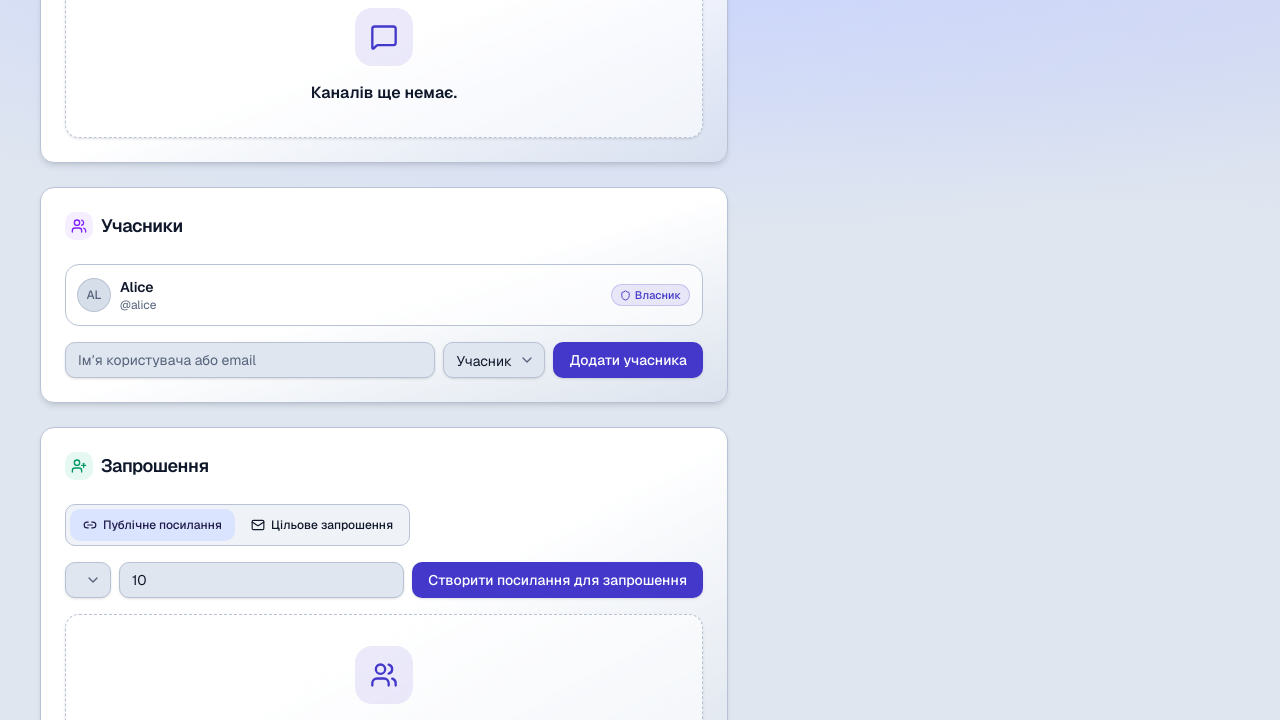
Test: WorkspaceDetailPage — locale › shows Ukrainian invitation sent message
The width and height of the screenshot is (1280, 720).
(page scrolled)
Type "bob@example.com" into the field with placeholder "Імʼя користувача або email".
click(250, 360); type("bob@example.com")  # box [65, 342, 435, 378]
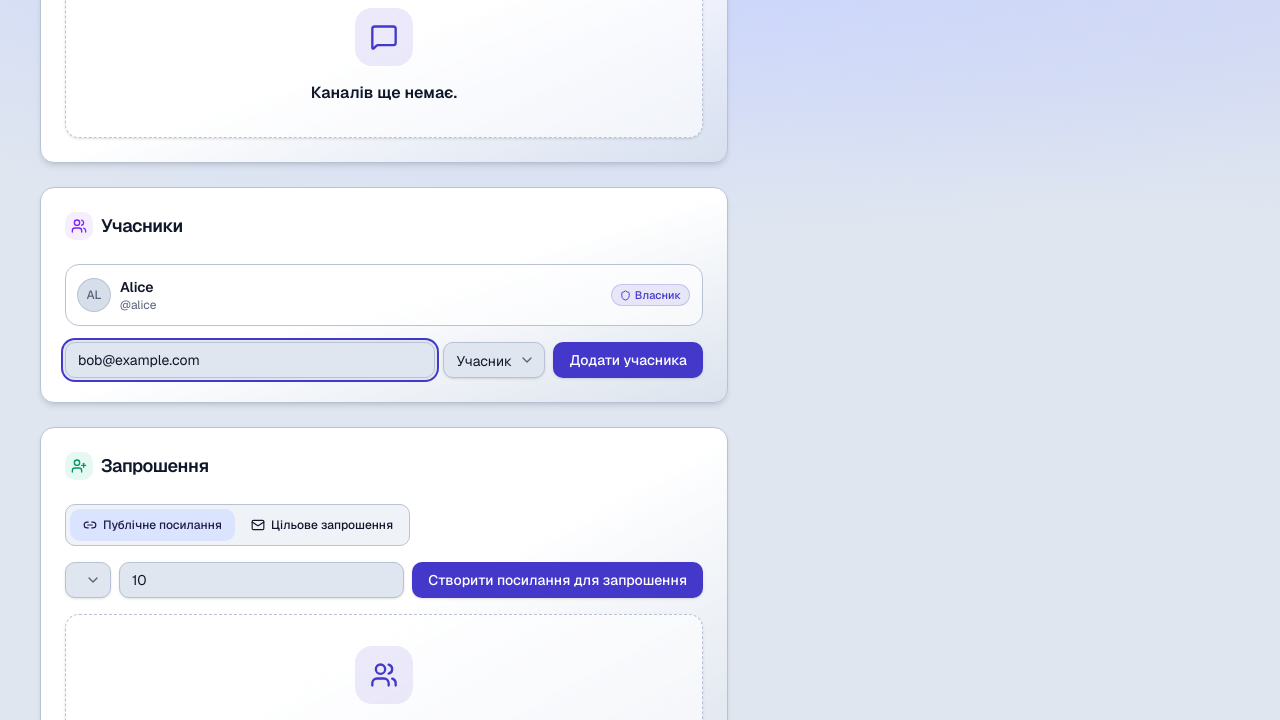
Click the button "Додати учасника".
click(628, 360)  # box [553, 342, 703, 378]
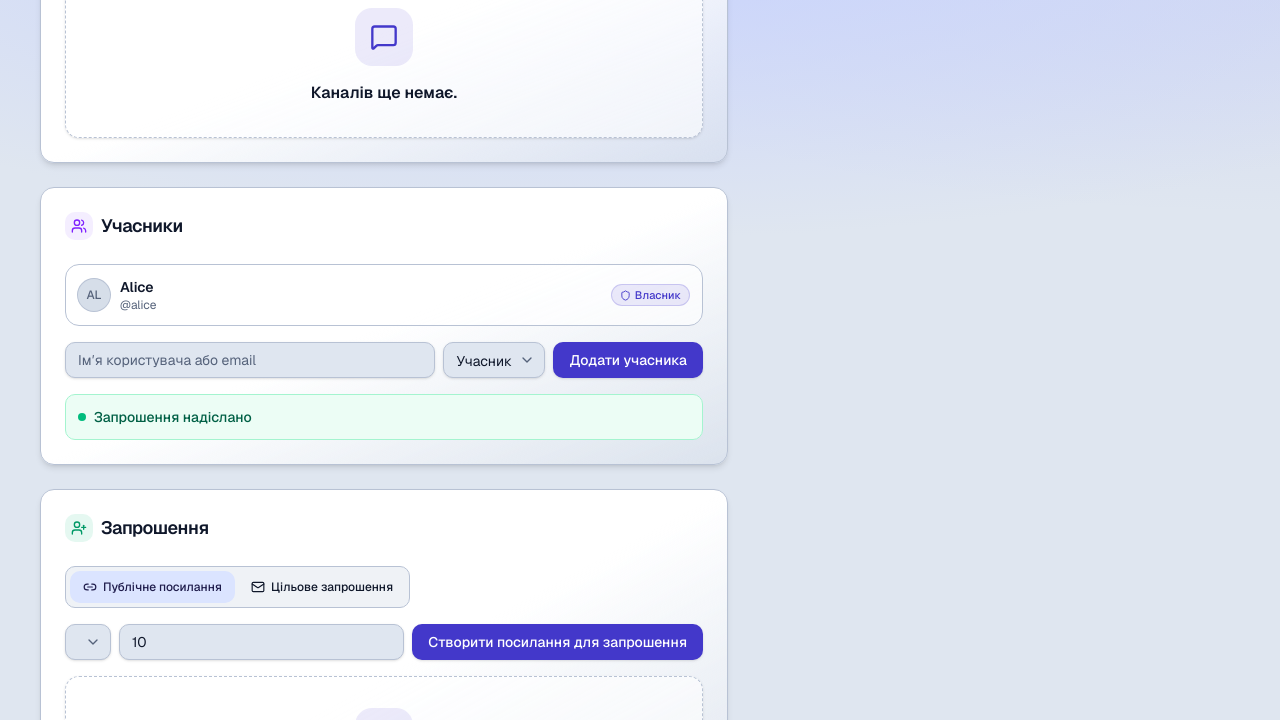
Now the text "Запрошення надіслано" is shown, box [78, 408, 252, 426]
